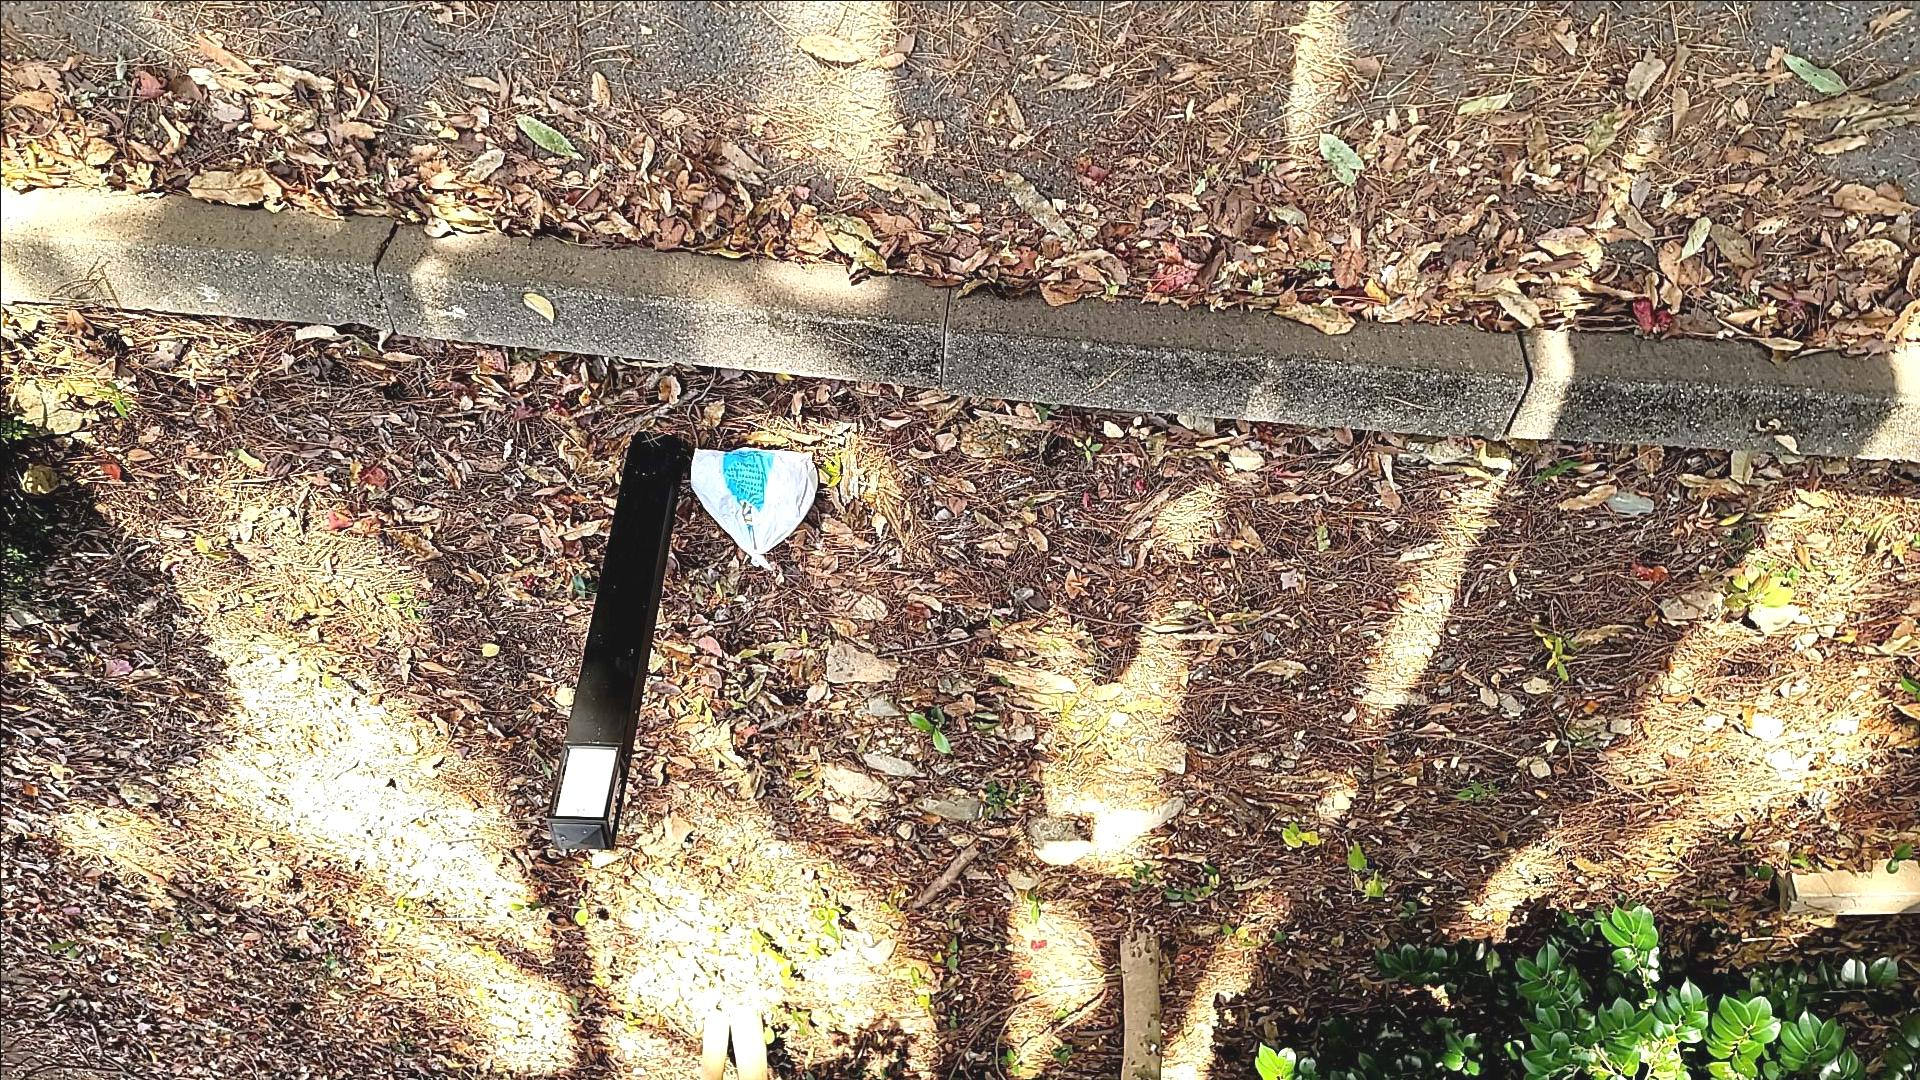white_bag: (684, 440, 822, 582)
